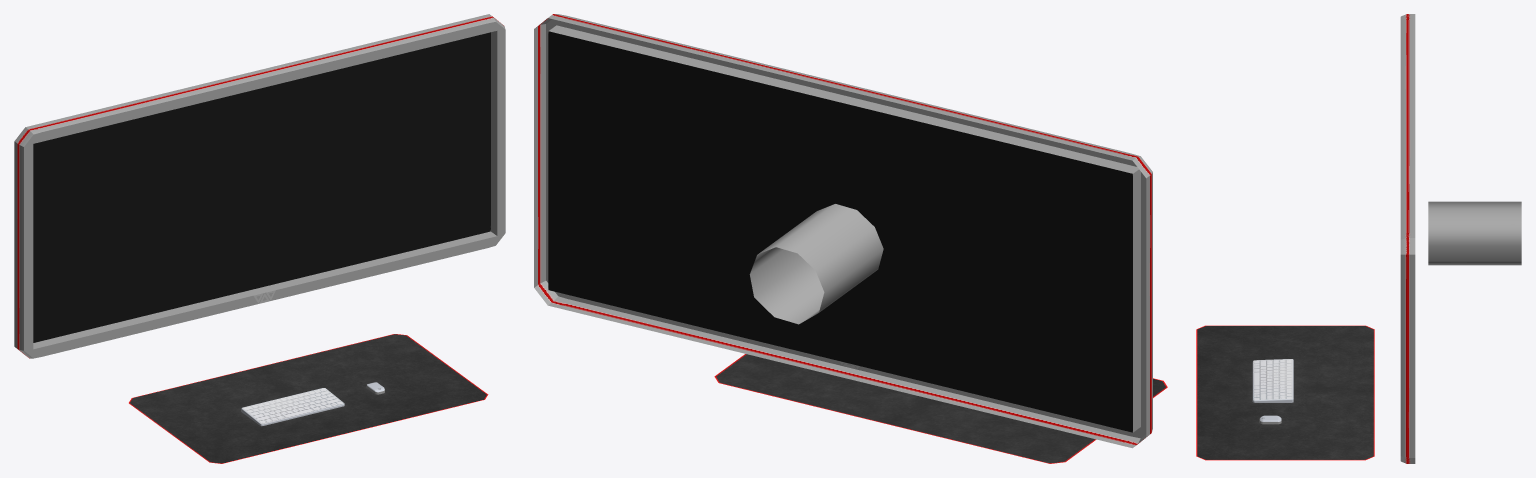
Rendered from Tx_Terminal_Lab.fbx.
3 views of the same model, side by side, from view 1: azimuth 30°, elevation 25°; view 2: azimuth 150°, elevation 25°; view 3: azimuth 270°, elevation 25° (orthographic). The views are drawn at different scales.
Parts seen in each view (by area): view 1: Pantalla_Terminal_Lab, MousePad_Terminal_Lab, Teclado_Terminal_Lab; view 2: Pantalla_Terminal_Lab, MousePad_Terminal_Lab; view 3: MousePad_Terminal_Lab, Pantalla_Terminal_Lab, Teclado_Terminal_Lab.
Boxes of the visible parts, x1=… form: Pantalla_Terminal_Lab: x1=14, y1=14, x2=505, y2=358; MousePad_Terminal_Lab: x1=129, y1=334, x2=488, y2=463; Teclado_Terminal_Lab: x1=241, y1=388, x2=344, y2=426; Pantalla_Terminal_Lab: x1=534, y1=14, x2=1152, y2=448; MousePad_Terminal_Lab: x1=714, y1=354, x2=1167, y2=463; MousePad_Terminal_Lab: x1=1196, y1=325, x2=1374, y2=460; Pantalla_Terminal_Lab: x1=1400, y1=14, x2=1521, y2=463; Teclado_Terminal_Lab: x1=1252, y1=359, x2=1293, y2=402.
Size of the model in its own units: 156 by 84.72 by 91.15.
1 material, 1 textured.
